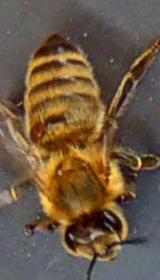varroa_mite: (18, 106, 54, 150)
